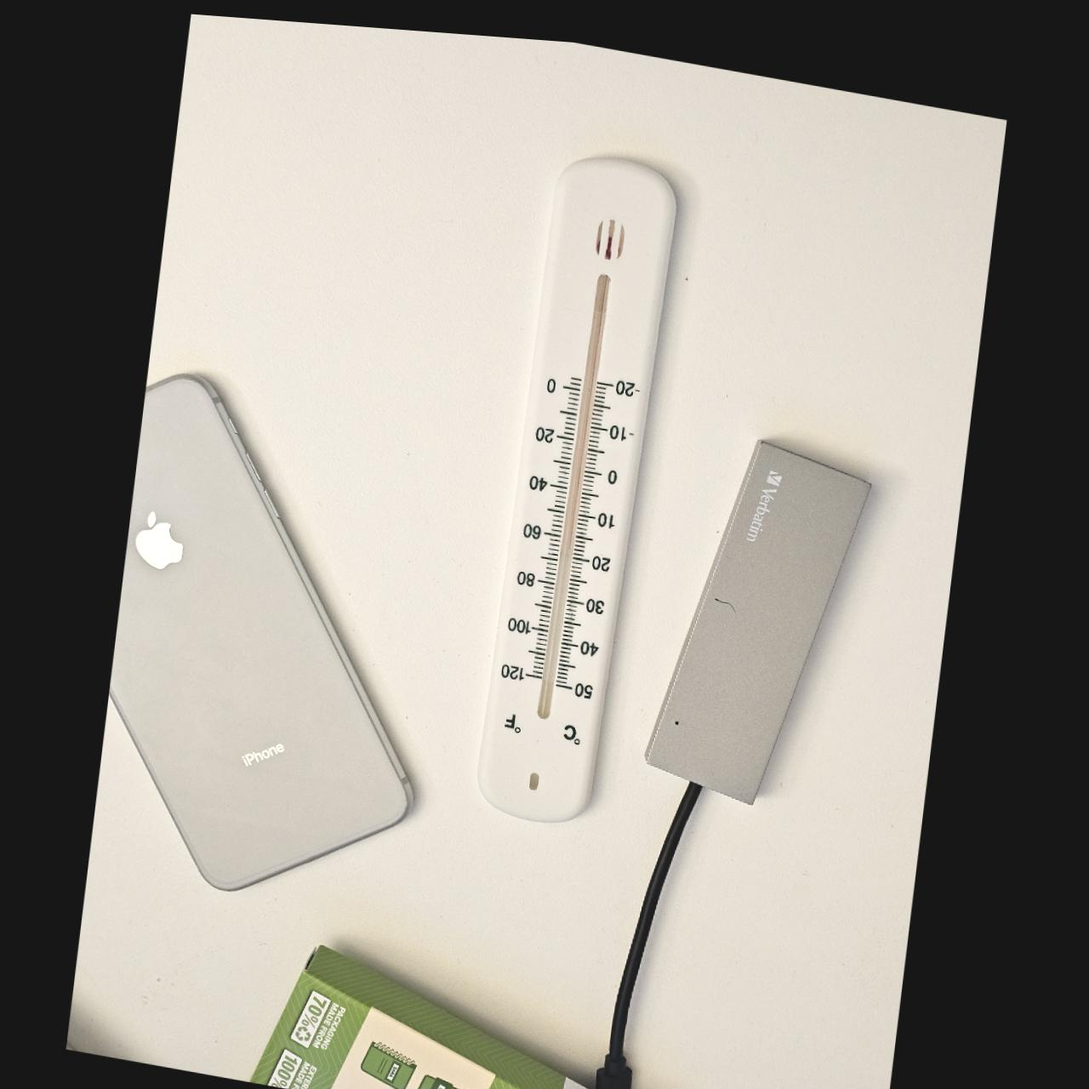thermometer: (471, 140, 682, 840)
